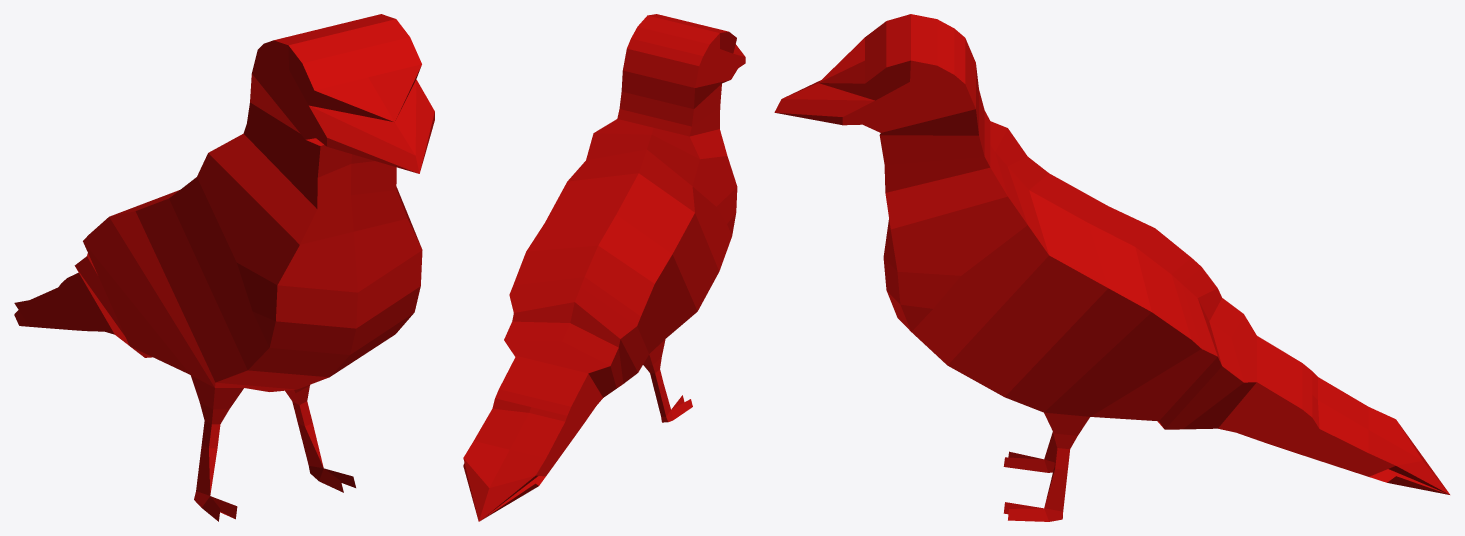
The model's file is Bird.glb.
3 renders of one model, left to right at view 1: azimuth 30°, elevation 25°; view 2: azimuth 150°, elevation 25°; view 3: azimuth 270°, elevation 25°, orthographic. The views are drawn at different scales.
Visible parts, largest first — view 1: Plane; view 2: Plane; view 3: Plane.
Part boxes in pixels (left/top/right/bottom): Plane: left=14, top=14, right=434, bottom=521; Plane: left=463, top=14, right=745, bottom=521; Plane: left=774, top=14, right=1449, bottom=521.
Bounding box in the file's own units: 1.43 × 3.66 × 4.88.
